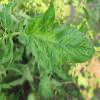Tomato leaf mosaic virus: (17, 6, 96, 77)
